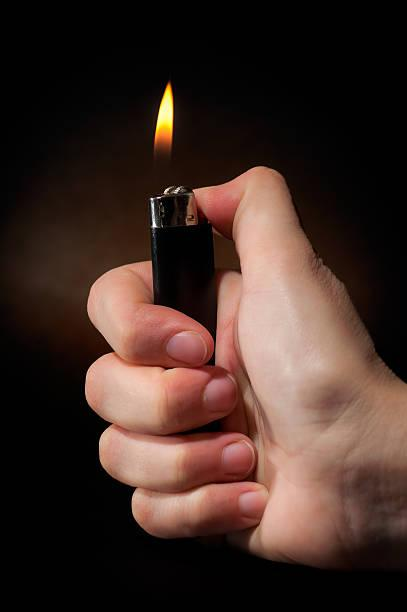Fire: (147, 80, 179, 168)
